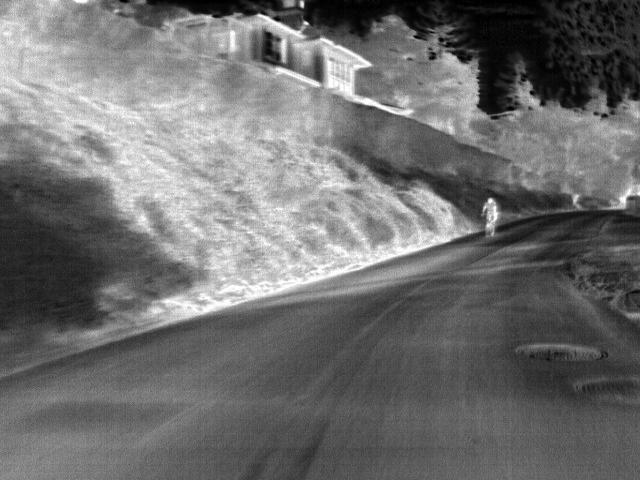person: (482, 195, 498, 217)
